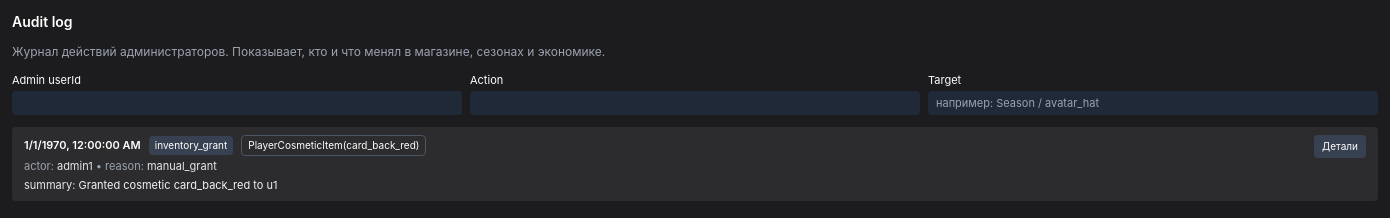
AdminAuditLogSection › filters by admin and target
Type "other_admin" into the field labelled "Admin userId" at (237, 103), box x1=12 y1=90 x2=462 y2=115
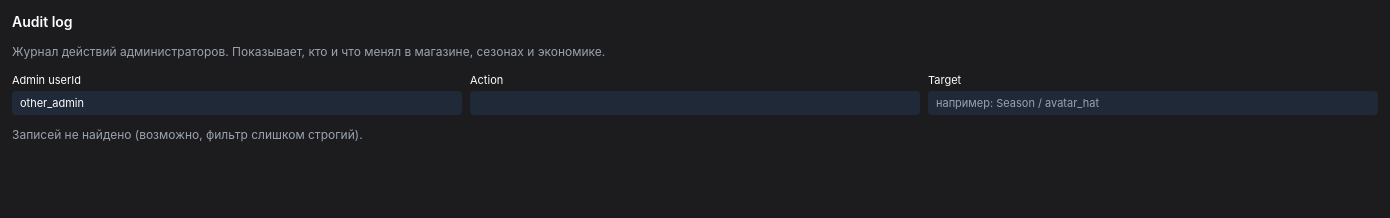
expect the text "Granted cosmetic card_back_red to u1" is gone: met
